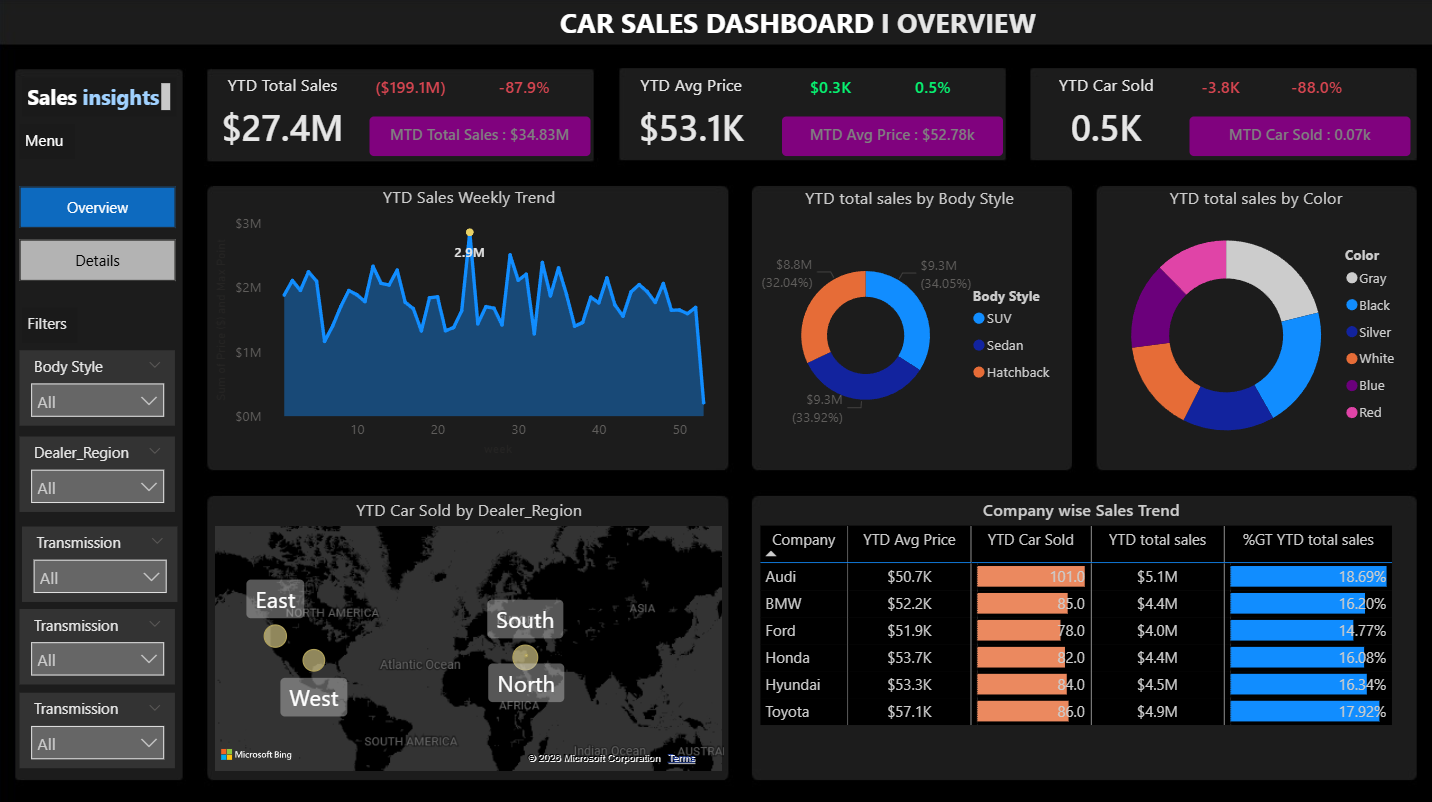

What the dashboard file says about the page in this screenshot:
{"tool":"powerbi","page":{"name":"Overview","canvas":[1280,720],"ordinal":0},"visuals":[{"type":"card","title":"YTD Total Sales","fields":{"Values":["Car_data.YTD total sales"]},"box":[189.4,65.1,130.3,78.4],"z":0},{"type":"card","fields":{"Values":["Car_data.Total Sales Diff"]},"box":[331.8,65.1,73.6,26.5],"z":1000},{"type":"card","fields":{"Values":["Car_data.YOY sales growth"]},"box":[433.1,65.1,73.6,26.5],"z":2000},{"type":"card","fields":{"Values":["Car_data.MTD KPI"]},"box":[331.8,105,196.6,35],"z":3000},{"type":"card","title":"YTD Avg Price","fields":{"Values":["Car_data.YTD Avg Price"]},"box":[553.8,65.1,130.3,78.4],"z":4000},{"type":"card","fields":{"Values":["Car_data.Avg Price Diff"]},"box":[705.8,65.1,73.6,26.5],"z":5000},{"type":"card","fields":{"Values":["Car_data.YOY Avg Price Growth"]},"box":[797.5,65.1,73.6,26.5],"z":6000},{"type":"card","fields":{"Values":["Car_data.MTD Avg Price KPI"]},"box":[698.5,105,196.6,35],"z":7000},{"type":"card","title":"YTD Car Sold","fields":{"Values":["Car_data.YTD Car Sold"]},"box":[922.9,65.1,130.3,78.4],"z":8000},{"type":"card","fields":{"Values":["Car_data.Car Sold Diff"]},"box":[1053.2,65.1,73.6,26.5],"z":9000},{"type":"card","fields":{"Values":["Car_data.YOY Car Sold Growth"]},"box":[1138.9,65.1,73.6,26.5],"z":10000},{"type":"card","fields":{"Values":["Car_data.MTD Car Sold KPI"]},"box":[1061.7,105,196.6,35],"z":11000},{"type":"areaChart","title":"YTD Sales Weekly Trend","fields":{"Category":["Calender Table.week"],"Y":["Sum(Car_data.Price ($))","Car_data.Max Point"]},"box":[189.4,166,462.4,245.6],"z":12000},{"type":"donutChart","fields":{"Category":["Car_data.Body Style"],"Y":["Car_data.YTD total sales"]},"box":[673.8,167.4,278.6,245.6],"z":13000},{"type":"donutChart","fields":{"Y":["Car_data.YTD total sales"],"Category":["Car_data.Color"]},"box":[983.9,167.4,274.4,245.6],"z":14000},{"type":"map","fields":{"Category":["Car_data.Dealer_Region"],"Size":["Car_data.YTD Car Sold"]},"box":[189.4,444.6,462.4,248.4],"z":15000},{"type":"tableEx","title":"Company wise Sales Trend","fields":{"Values":["Car_data.Company","Car_data.YTD Avg Price","Car_data.YTD Car Sold","Car_data.YTD total sales1","Car_data.YTD total sales"]},"box":[673.8,444.6,584.6,248.4],"z":16000},{"type":"textbox","box":[286.8,0,852.1,43.9],"z":17000},{"type":"slicer","fields":{"Values":["Car_data.Body Style"]},"box":[20.6,312.9,138.6,67.2],"z":18000},{"type":"slicer","fields":{"Values":["Car_data.Dealer_Region"]},"box":[20.6,389.7,138.6,67.2],"z":19000},{"type":"slicer","fields":{"Values":["Car_data.Transmission"]},"box":[22,469.3,138.6,67.2],"z":20000},{"type":"slicer","fields":{"Values":["Car_data.Transmission"]},"box":[20.6,543.4,138.6,67.2],"z":21000},{"type":"slicer","fields":{"Values":["Car_data.Transmission"]},"box":[20.6,617.5,138.6,67.2],"z":22000},{"type":"textbox","box":[22,274.4,49.4,31.6],"z":23000},{"type":"textbox","box":[22,70,137.2,34.3],"z":24000},{"type":"textbox","box":[20.6,111.1,49.4,31.6],"z":25000},{"type":"pageNavigator","box":[20.6,167.4,140,85.1],"z":25001}]}

Visuals, with their boxes in screenshot pixels (x1, y1, x2, y2), scaled from the page's 1280x720 canvas onto the 1432x802 screenshot:
"YTD Total Sales" card: [left=212, top=73, right=358, bottom=160]
card - Car_data.Total Sales Diff: [left=371, top=73, right=454, bottom=102]
card - Car_data.YOY sales growth: [left=485, top=73, right=567, bottom=102]
card - Car_data.MTD KPI: [left=371, top=117, right=591, bottom=156]
"YTD Avg Price" card: [left=620, top=73, right=765, bottom=160]
card - Car_data.Avg Price Diff: [left=790, top=73, right=872, bottom=102]
card - Car_data.YOY Avg Price Growth: [left=892, top=73, right=975, bottom=102]
card - Car_data.MTD Avg Price KPI: [left=781, top=117, right=1001, bottom=156]
"YTD Car Sold" card: [left=1032, top=73, right=1178, bottom=160]
card - Car_data.Car Sold Diff: [left=1178, top=73, right=1261, bottom=102]
card - Car_data.YOY Car Sold Growth: [left=1274, top=73, right=1356, bottom=102]
card - Car_data.MTD Car Sold KPI: [left=1188, top=117, right=1408, bottom=156]
"YTD Sales Weekly Trend" areaChart: [left=212, top=185, right=729, bottom=458]
donutChart - Car_data.Body Style x Car_data.YTD total sales: [left=754, top=186, right=1065, bottom=460]
donutChart - Car_data.YTD total sales x Car_data.Color: [left=1101, top=186, right=1408, bottom=460]
map - Car_data.Dealer_Region x Car_data.YTD Car Sold: [left=212, top=495, right=729, bottom=772]
"Company wise Sales Trend" tableEx: [left=754, top=495, right=1408, bottom=772]
textbox: [left=321, top=0, right=1274, bottom=49]
slicer - Car_data.Body Style: [left=23, top=349, right=178, bottom=423]
slicer - Car_data.Dealer_Region: [left=23, top=434, right=178, bottom=509]
slicer - Car_data.Transmission: [left=25, top=523, right=180, bottom=598]
slicer - Car_data.Transmission: [left=23, top=605, right=178, bottom=680]
slicer - Car_data.Transmission: [left=23, top=688, right=178, bottom=763]
textbox: [left=25, top=306, right=80, bottom=341]
textbox: [left=25, top=78, right=178, bottom=116]
textbox: [left=23, top=124, right=78, bottom=159]
pageNavigator: [left=23, top=186, right=180, bottom=281]
